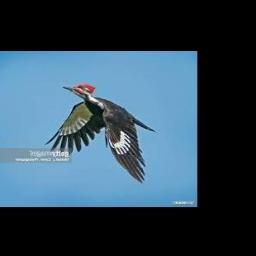Woodpecker: (45, 84, 156, 183)
